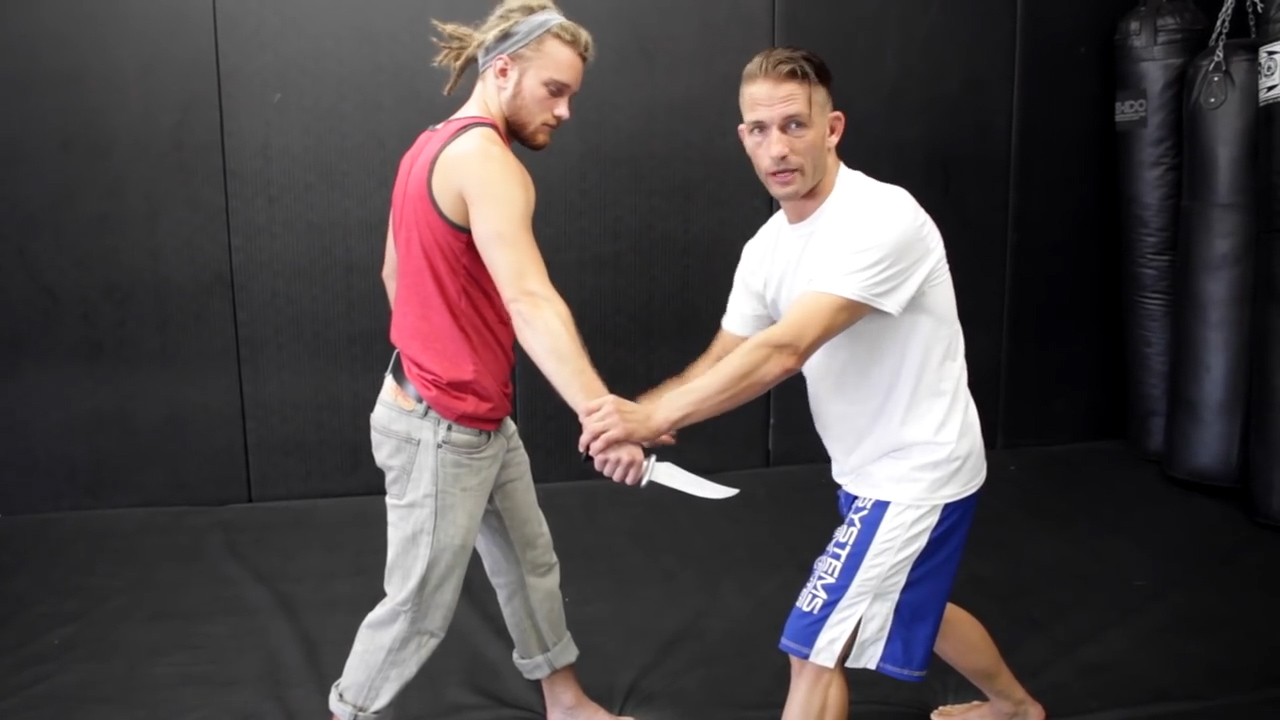knife: (579, 450, 746, 510)
